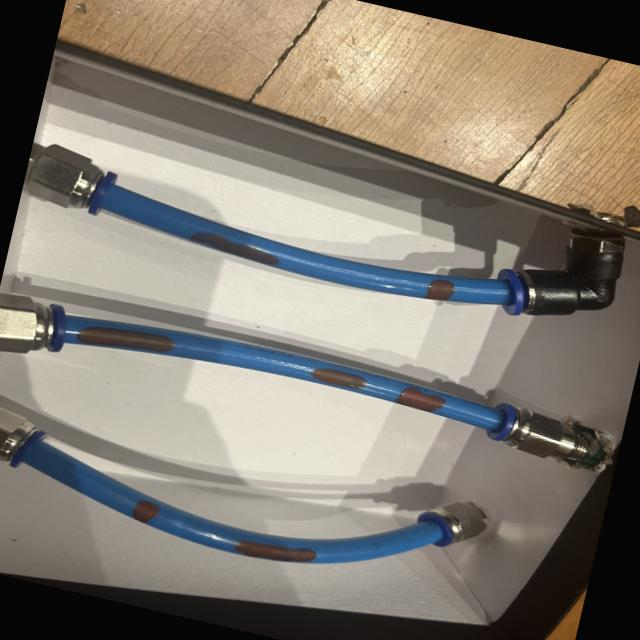hose_damage: (182, 225, 282, 269), (74, 325, 182, 355), (231, 537, 320, 564), (393, 383, 447, 416), (305, 365, 368, 391), (126, 494, 161, 526), (422, 274, 456, 306)
